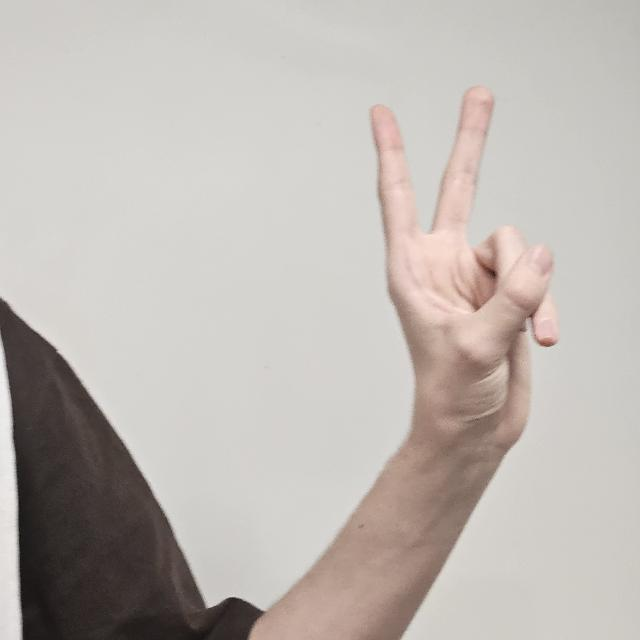Triangulo: (364, 83, 566, 485)
